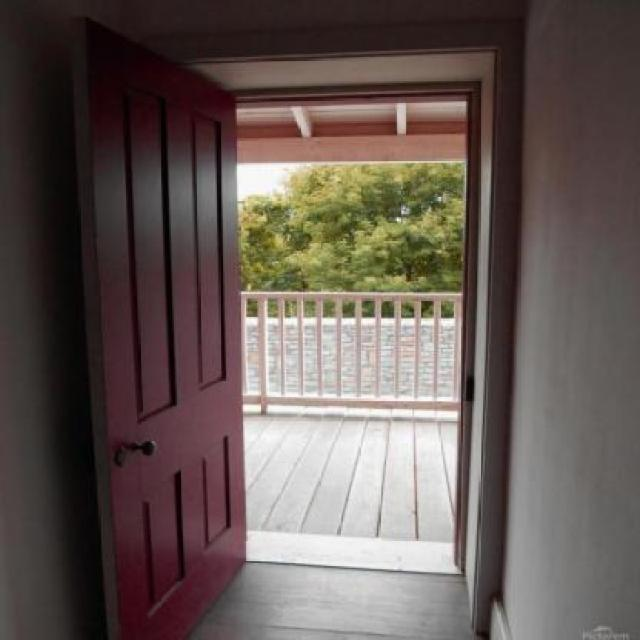door_handle: (118, 434, 164, 470)
